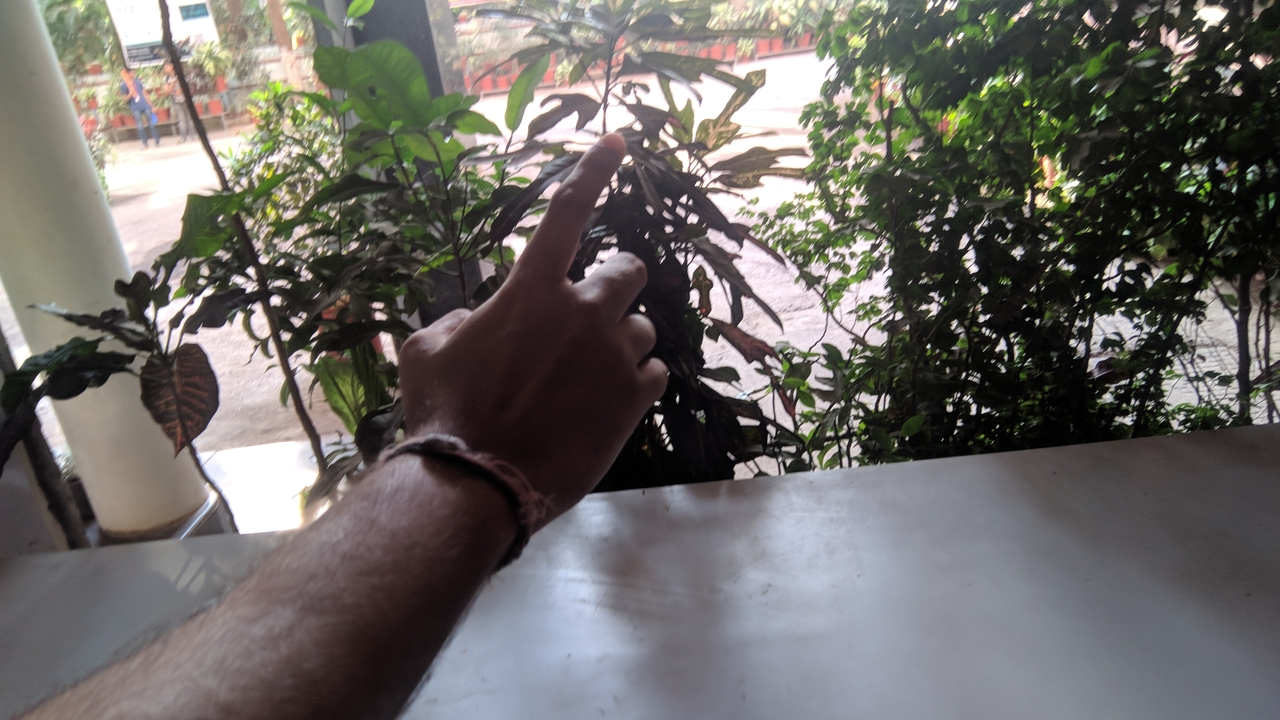fingertip: (576, 124, 634, 176)
